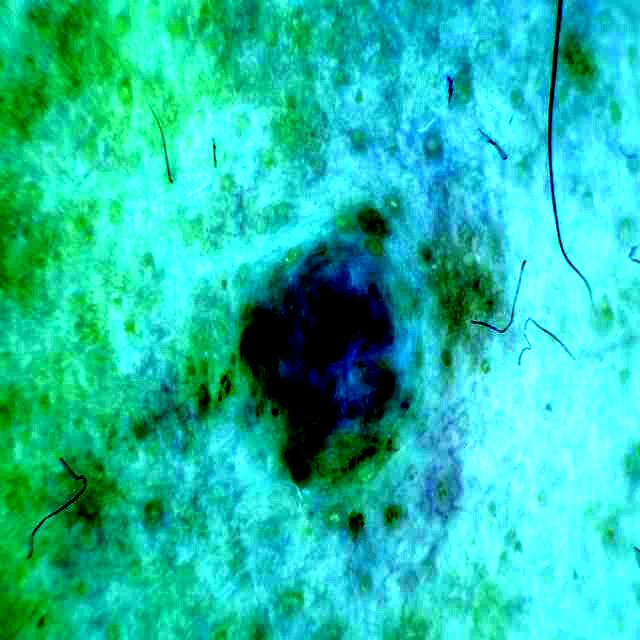NV: (227, 202, 434, 505)
